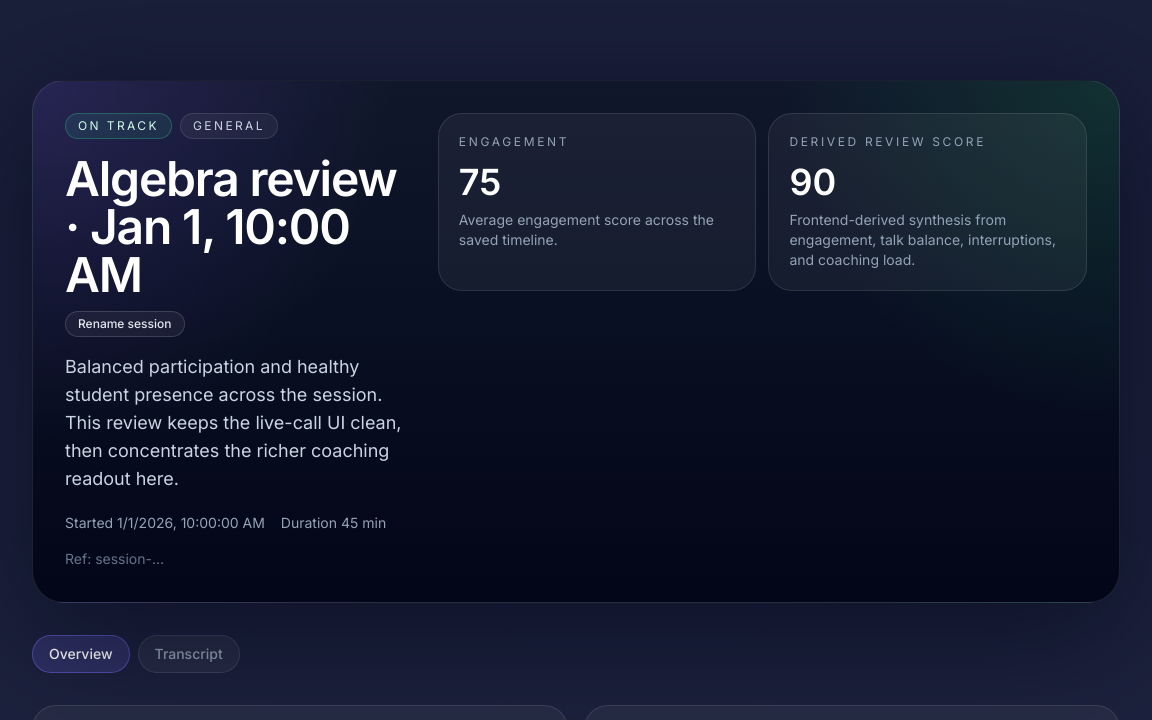
Test: SessionDetailPage — transcript tab › shows AI summary, topics, key moments, and follow-up recommendations when transcript tab is active
# Click transcript tab
Step 1. Click the button with test id "analytics-tab-transcript" → {"x": 189, "y": 654}, box 138,635 -> 240,673
(page scrolled)
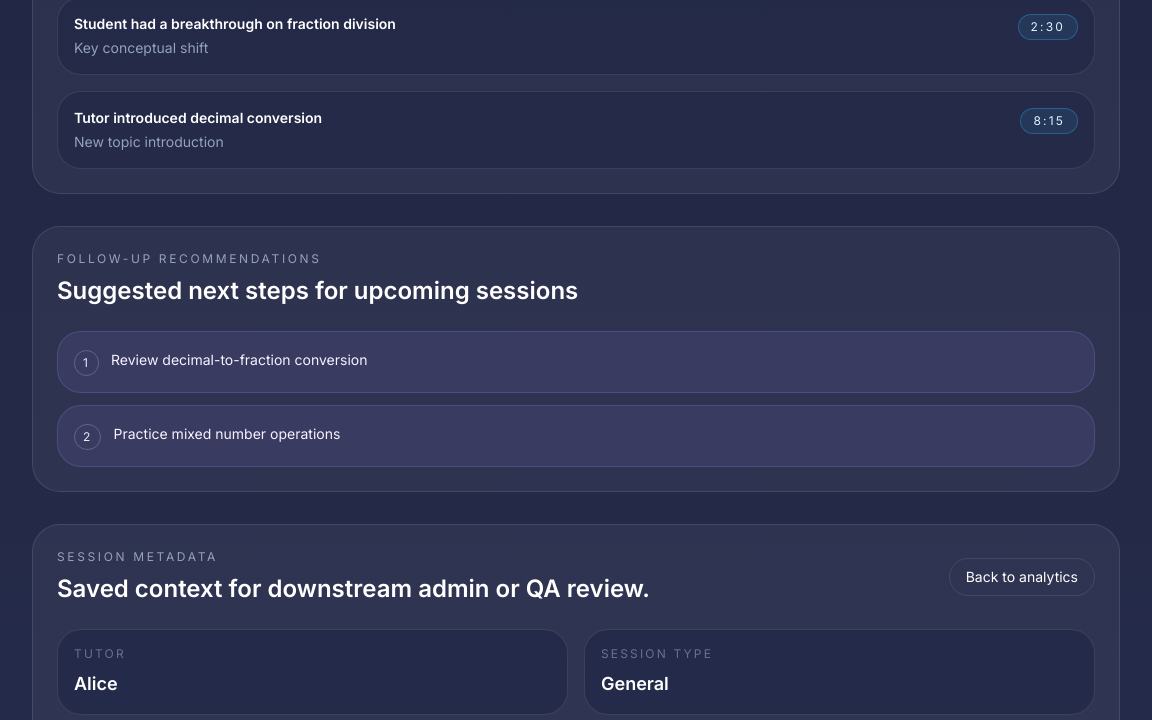
Check: the element with test id "analytics-key-moment-0" shows "breakthrough on fraction division", box 74,15 -> 396,32
Check: the element with test id "analytics-key-moment-1" shows "decimal conversion", box 74,109 -> 322,126
Check: the element with test id "analytics-follow-up-recommendations" is shown, box 32,226 -> 1120,492
